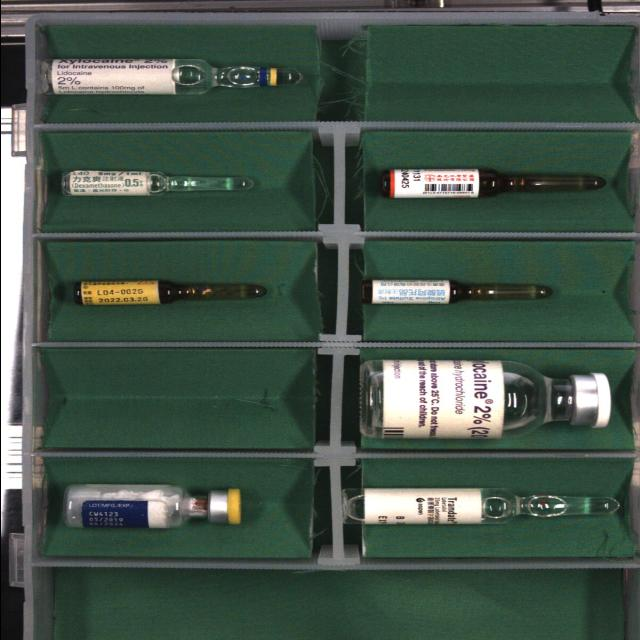Vials: (359, 360, 610, 439), (63, 484, 241, 529)
